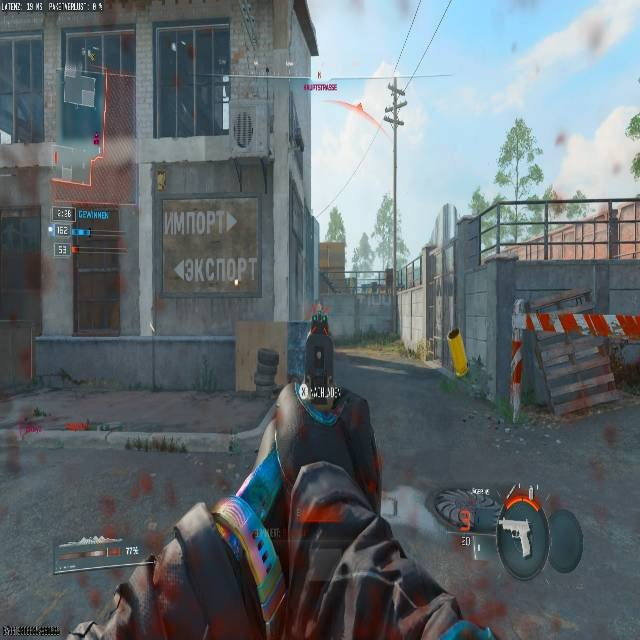player: (297, 312, 332, 386)
